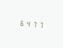four: (24, 19, 29, 27)
seven: (30, 19, 35, 28), (36, 20, 41, 28)
six: (18, 18, 23, 27)
